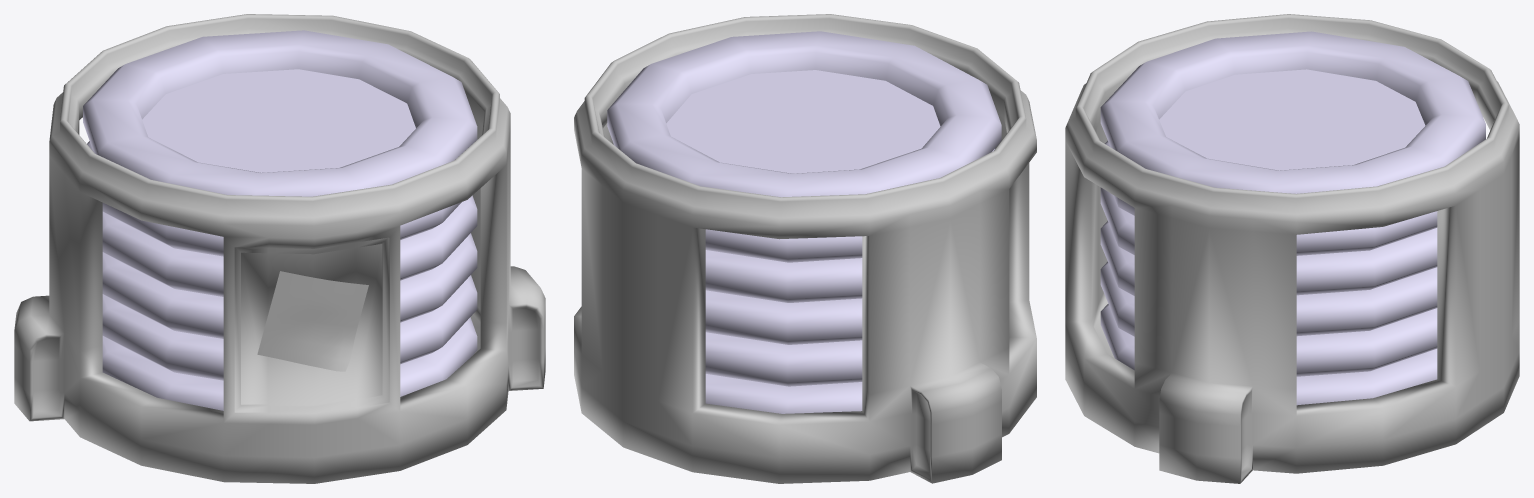
Rendered from SpawnerPlatos.fbx.
3 views of the same model, side by side, from view 1: azimuth 30°, elevation 25°; view 2: azimuth 150°, elevation 25°; view 3: azimuth 270°, elevation 25° (orthographic). The views are drawn at different scales.
Parts seen in each view (by area): view 1: SpawnerPlatos; view 2: SpawnerPlatos; view 3: SpawnerPlatos.
Part boxes in pixels (bbox=[...]): SpawnerPlatos: bbox=[14, 14, 545, 483]; SpawnerPlatos: bbox=[574, 14, 1036, 483]; SpawnerPlatos: bbox=[1065, 14, 1519, 483].
Size of the model in its own units: 41.3 by 24.74 by 37.32.
